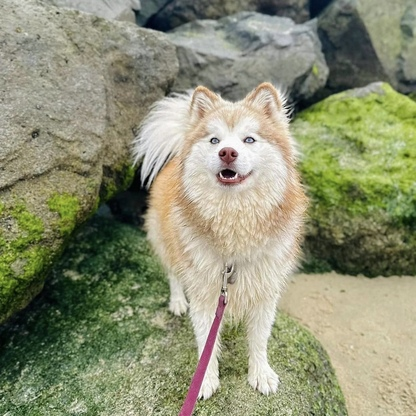husky: (125, 76, 315, 406)
